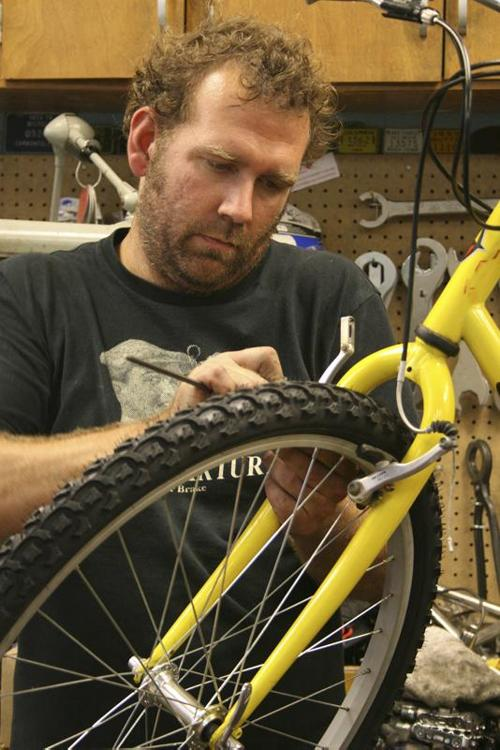person: (4, 19, 420, 750)
